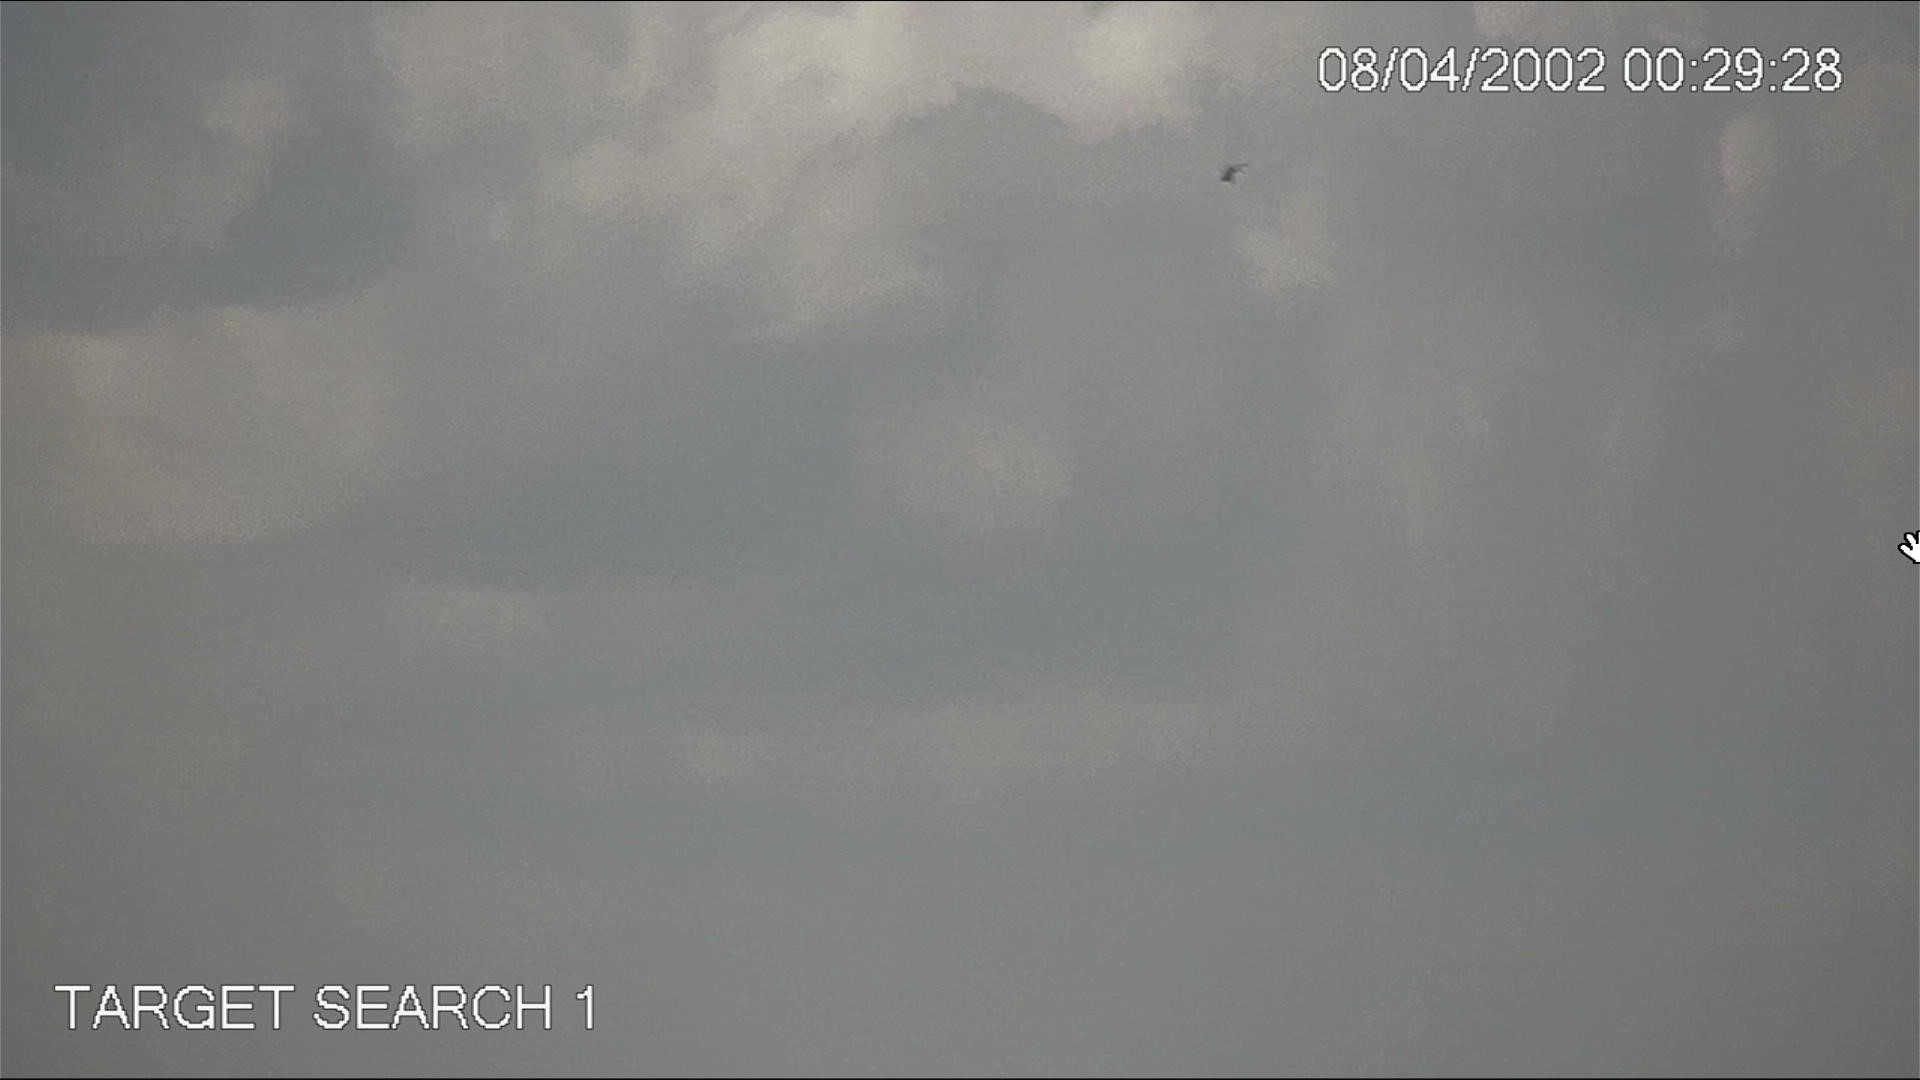SU_30: (1216, 158, 1249, 189)
